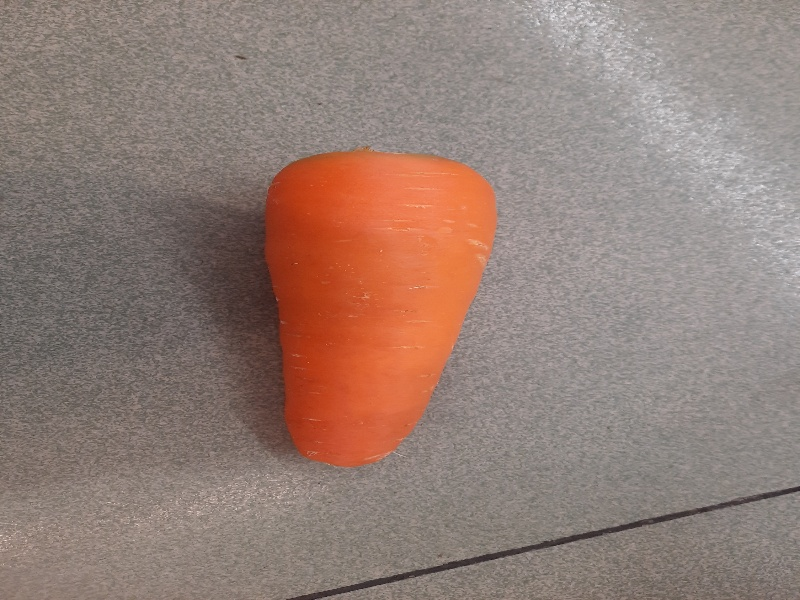vege: (258, 150, 499, 470)
